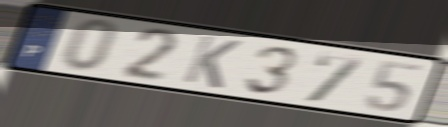0: (56, 17, 124, 75)
2: (121, 26, 181, 84)
3: (243, 45, 300, 96)
5: (363, 58, 425, 113)
7: (305, 49, 368, 105)
K: (179, 33, 244, 91)
